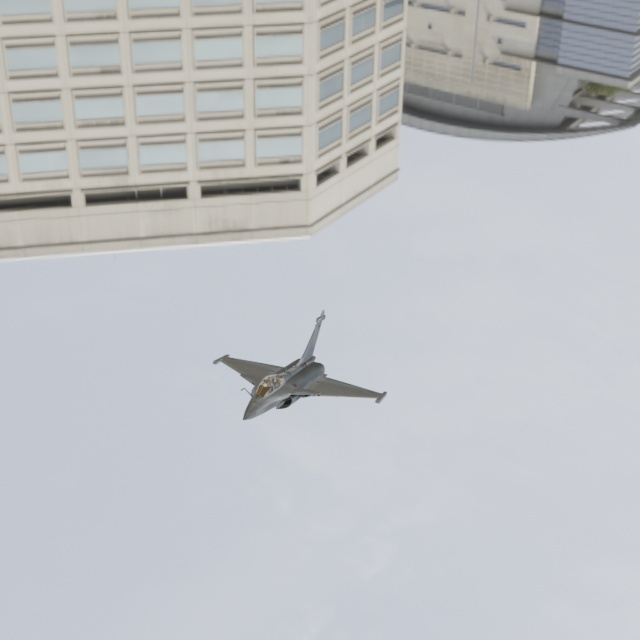dassault_rafale: (148, 292, 406, 453)
